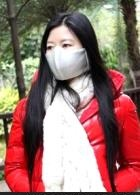face_mask: (45, 25, 82, 81)
